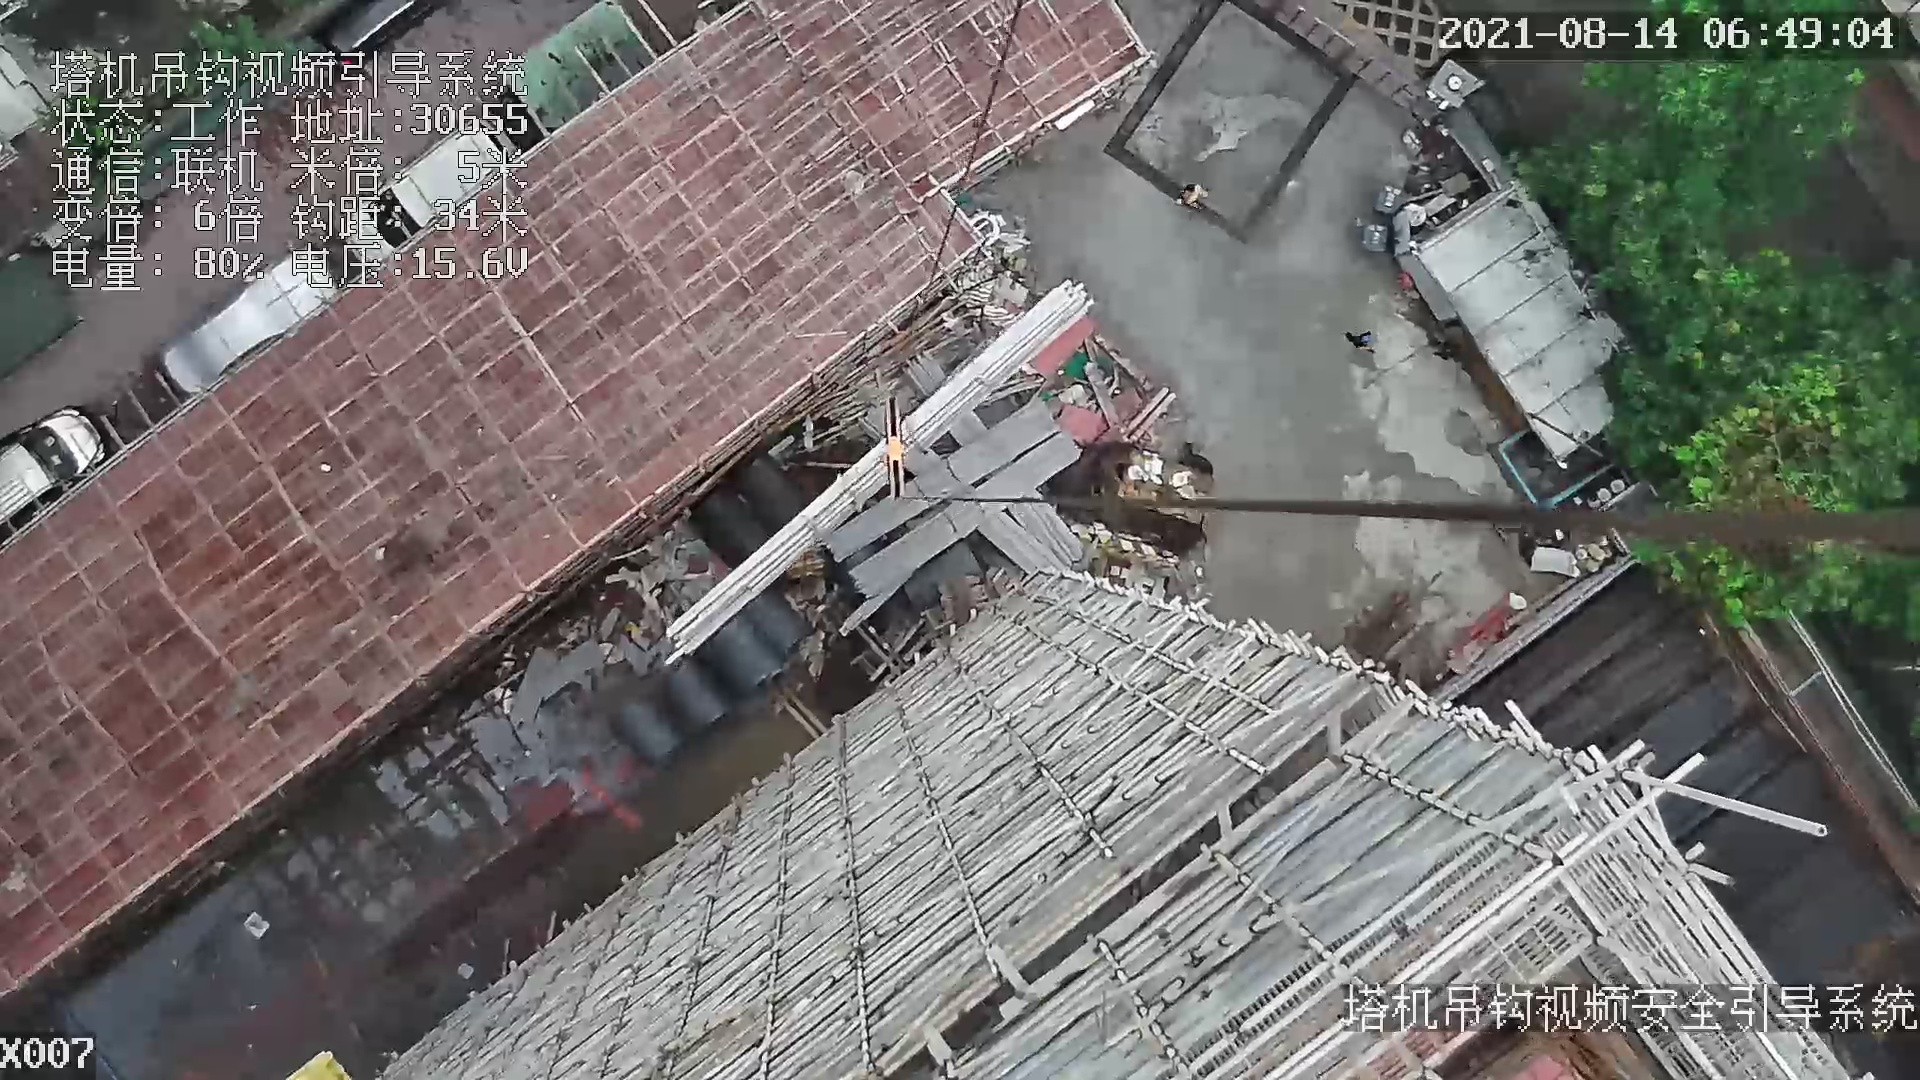hook: (878, 396, 915, 496)
hopper: (1497, 423, 1614, 506)
person: (1340, 323, 1377, 353), (1178, 180, 1205, 210)
